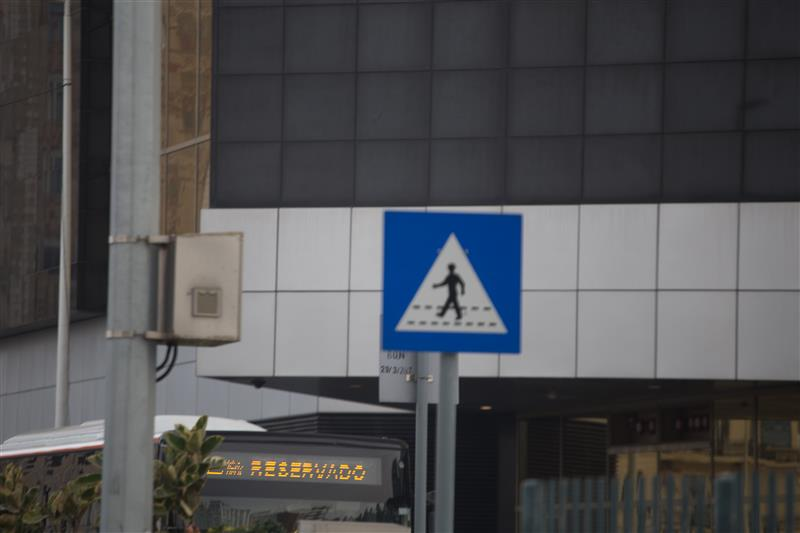pedestrianCrossing: (382, 207, 525, 356)
